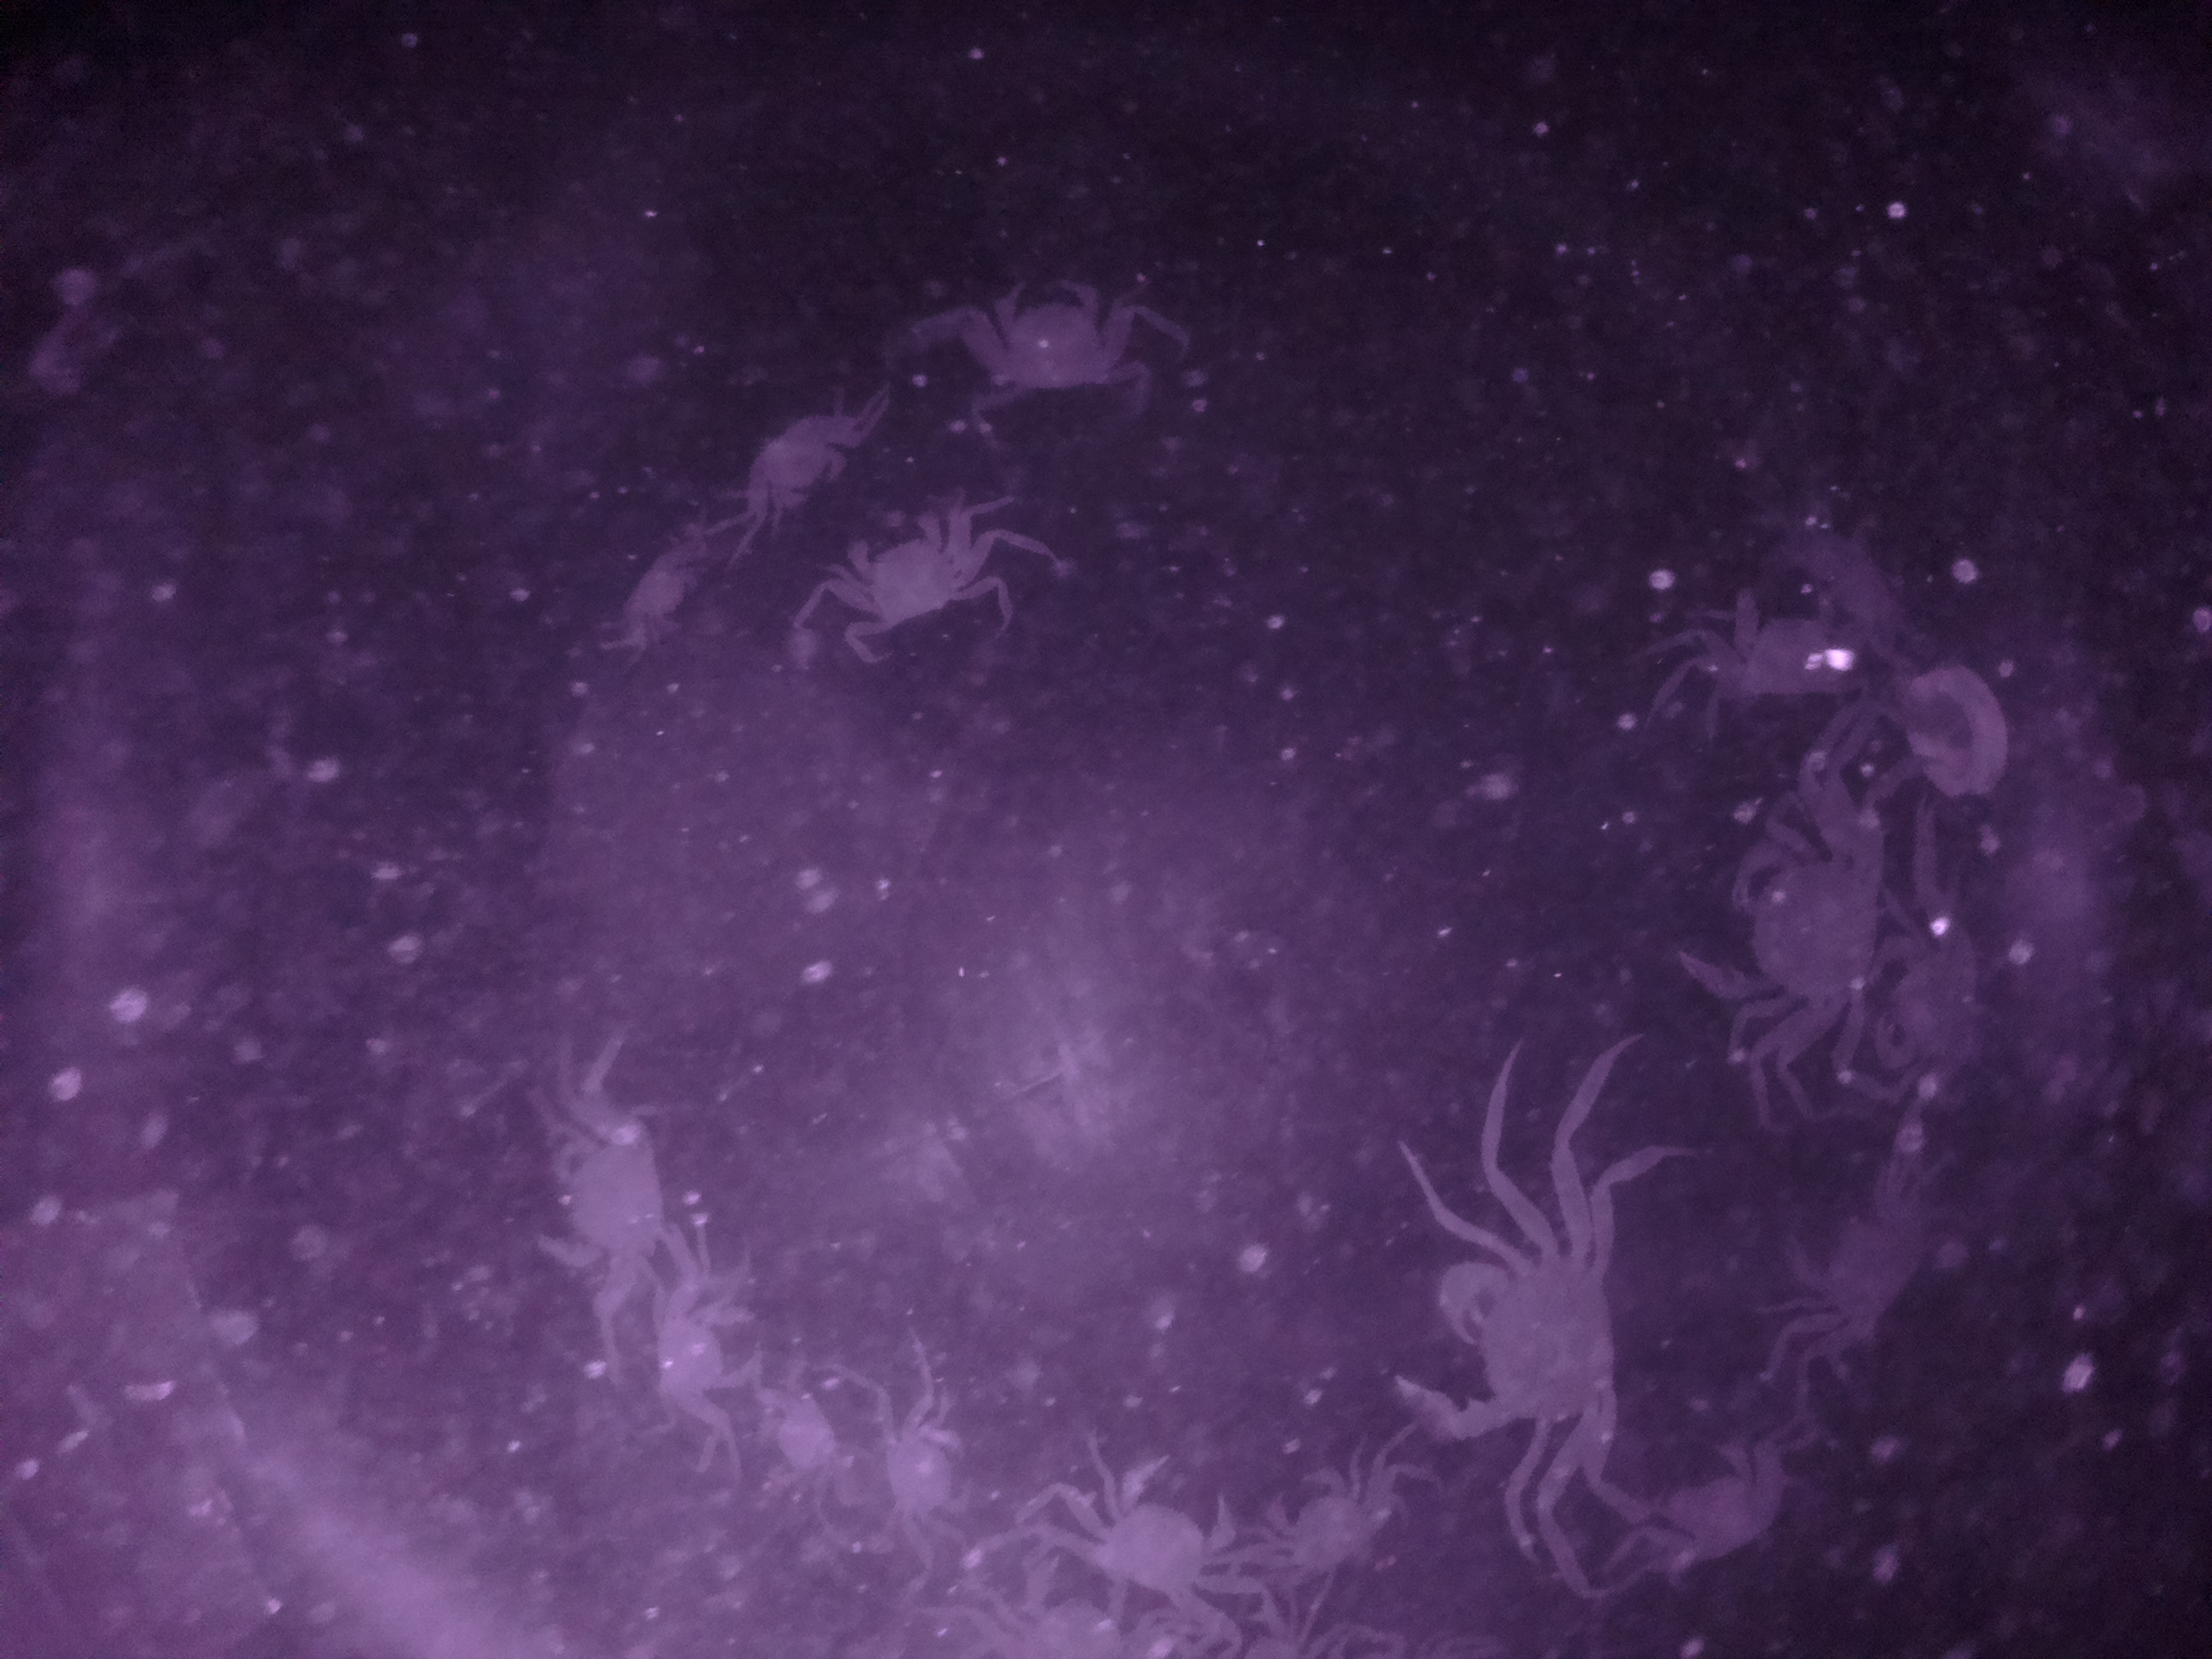Crab: (1376, 1227, 1627, 1474), (1670, 807, 1907, 1033), (1052, 1452, 1251, 1600), (531, 1096, 674, 1284), (972, 274, 1127, 415), (826, 505, 981, 638), (1249, 1452, 1397, 1577), (869, 1399, 979, 1549), (732, 403, 860, 528), (737, 1361, 846, 1499)
